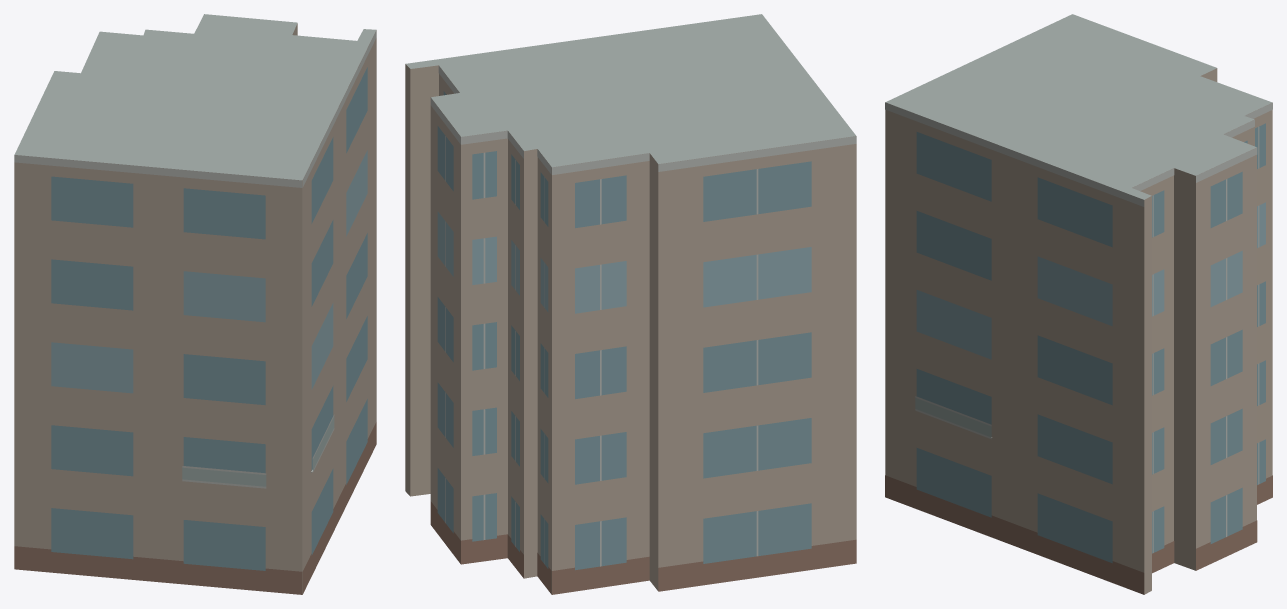
File: survey-upis-32523852.glb
3 views of the same model, side by side, from view 1: azimuth 30°, elevation 25°; view 2: azimuth 150°, elevation 25°; view 3: azimuth 270°, elevation 25° (orthographic). The views are drawn at different scales.
Visible parts, largest first — view 1: survey-upis-32523852.tmp; view 2: survey-upis-32523852.tmp; view 3: survey-upis-32523852.tmp.
Boxes of the visible parts, box(x1,y1,x2,y2) form: survey-upis-32523852.tmp: box(14, 14, 376, 594); survey-upis-32523852.tmp: box(405, 14, 856, 594); survey-upis-32523852.tmp: box(885, 14, 1272, 594).
Size of the model in its own units: 13.43 by 13.3 by 11.83.
